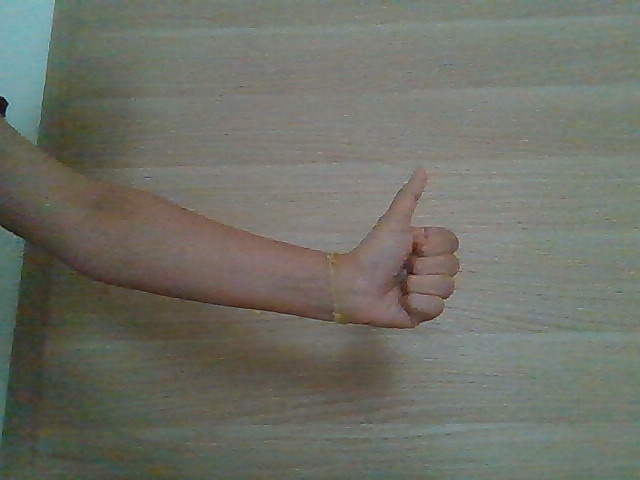Thumbs up: (348, 159, 465, 336)
